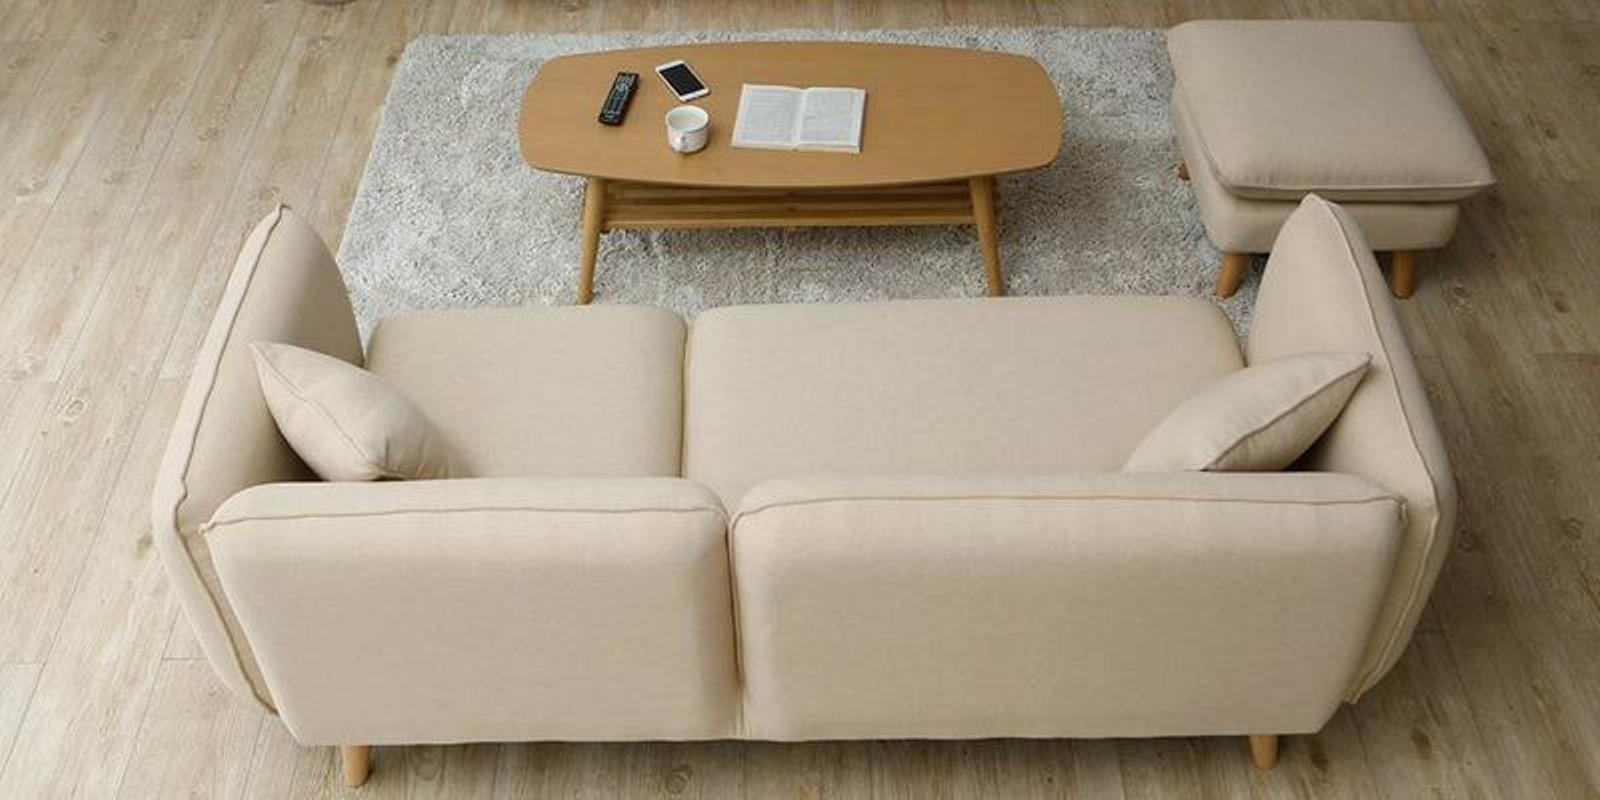Gloria Three Seater Sofa with Ottoman in Beige Colour by CasaCraft: (152, 195, 1491, 800), (1147, 14, 1494, 308)
